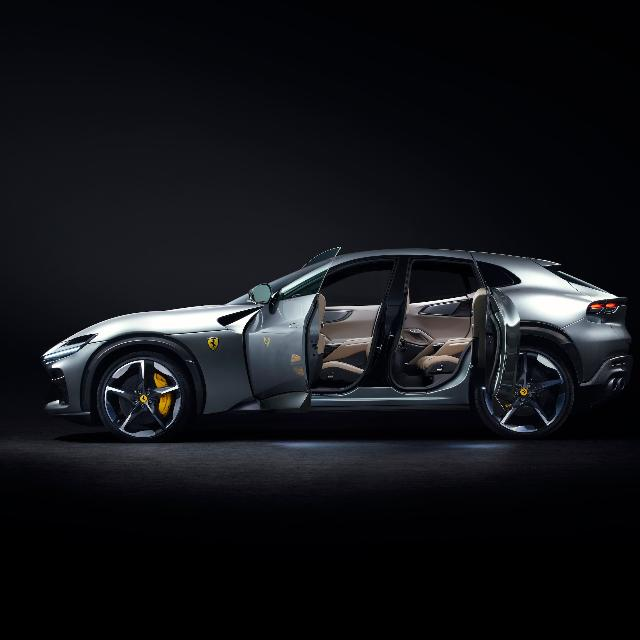ferrari: (42, 244, 634, 446)
